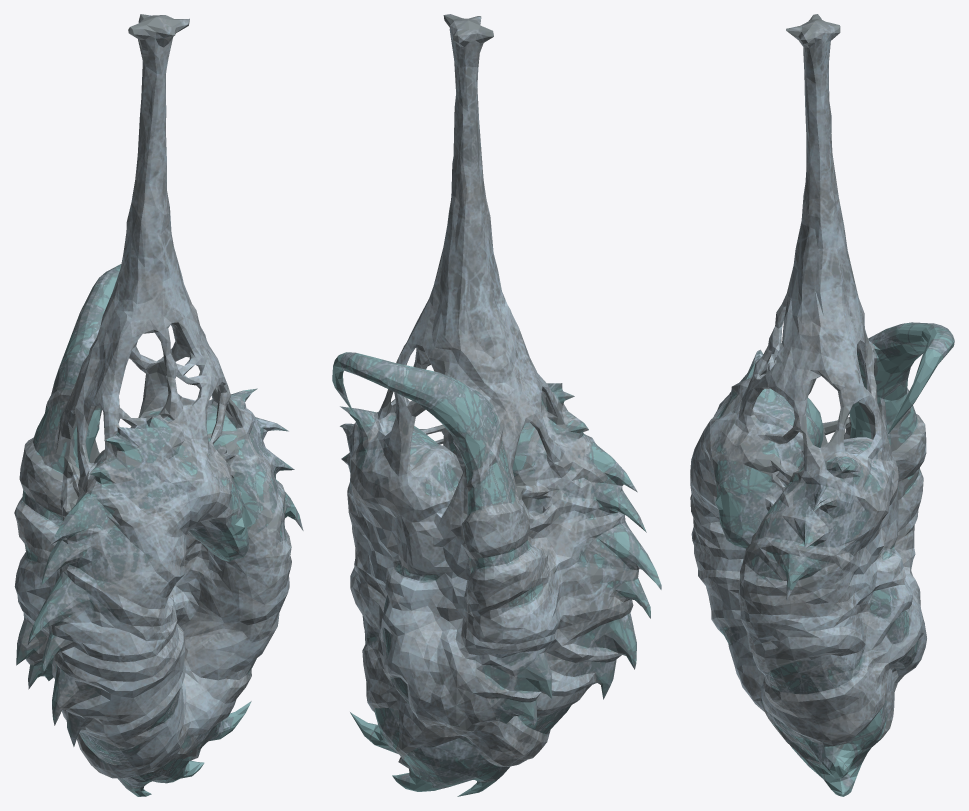
The picture shows the model from 3 angles, left to right: view 1: azimuth 30°, elevation 25°; view 2: azimuth 150°, elevation 25°; view 3: azimuth 270°, elevation 25°; orthographic projection. The views are drawn at different scales.
Visible parts, largest first — view 1: AT_BGAgo_SpiderFood_A01_10B.mo; view 2: AT_BGAgo_SpiderFood_A01_10B.mo; view 3: AT_BGAgo_SpiderFood_A01_10B.mo.
Part boxes in pixels (x1,y1,x2,y2): AT_BGAgo_SpiderFood_A01_10B.mo: (14, 14, 303, 796); AT_BGAgo_SpiderFood_A01_10B.mo: (332, 14, 661, 796); AT_BGAgo_SpiderFood_A01_10B.mo: (690, 14, 954, 796).
Bounding box in the file's own units: 272 × 688 × 218.
